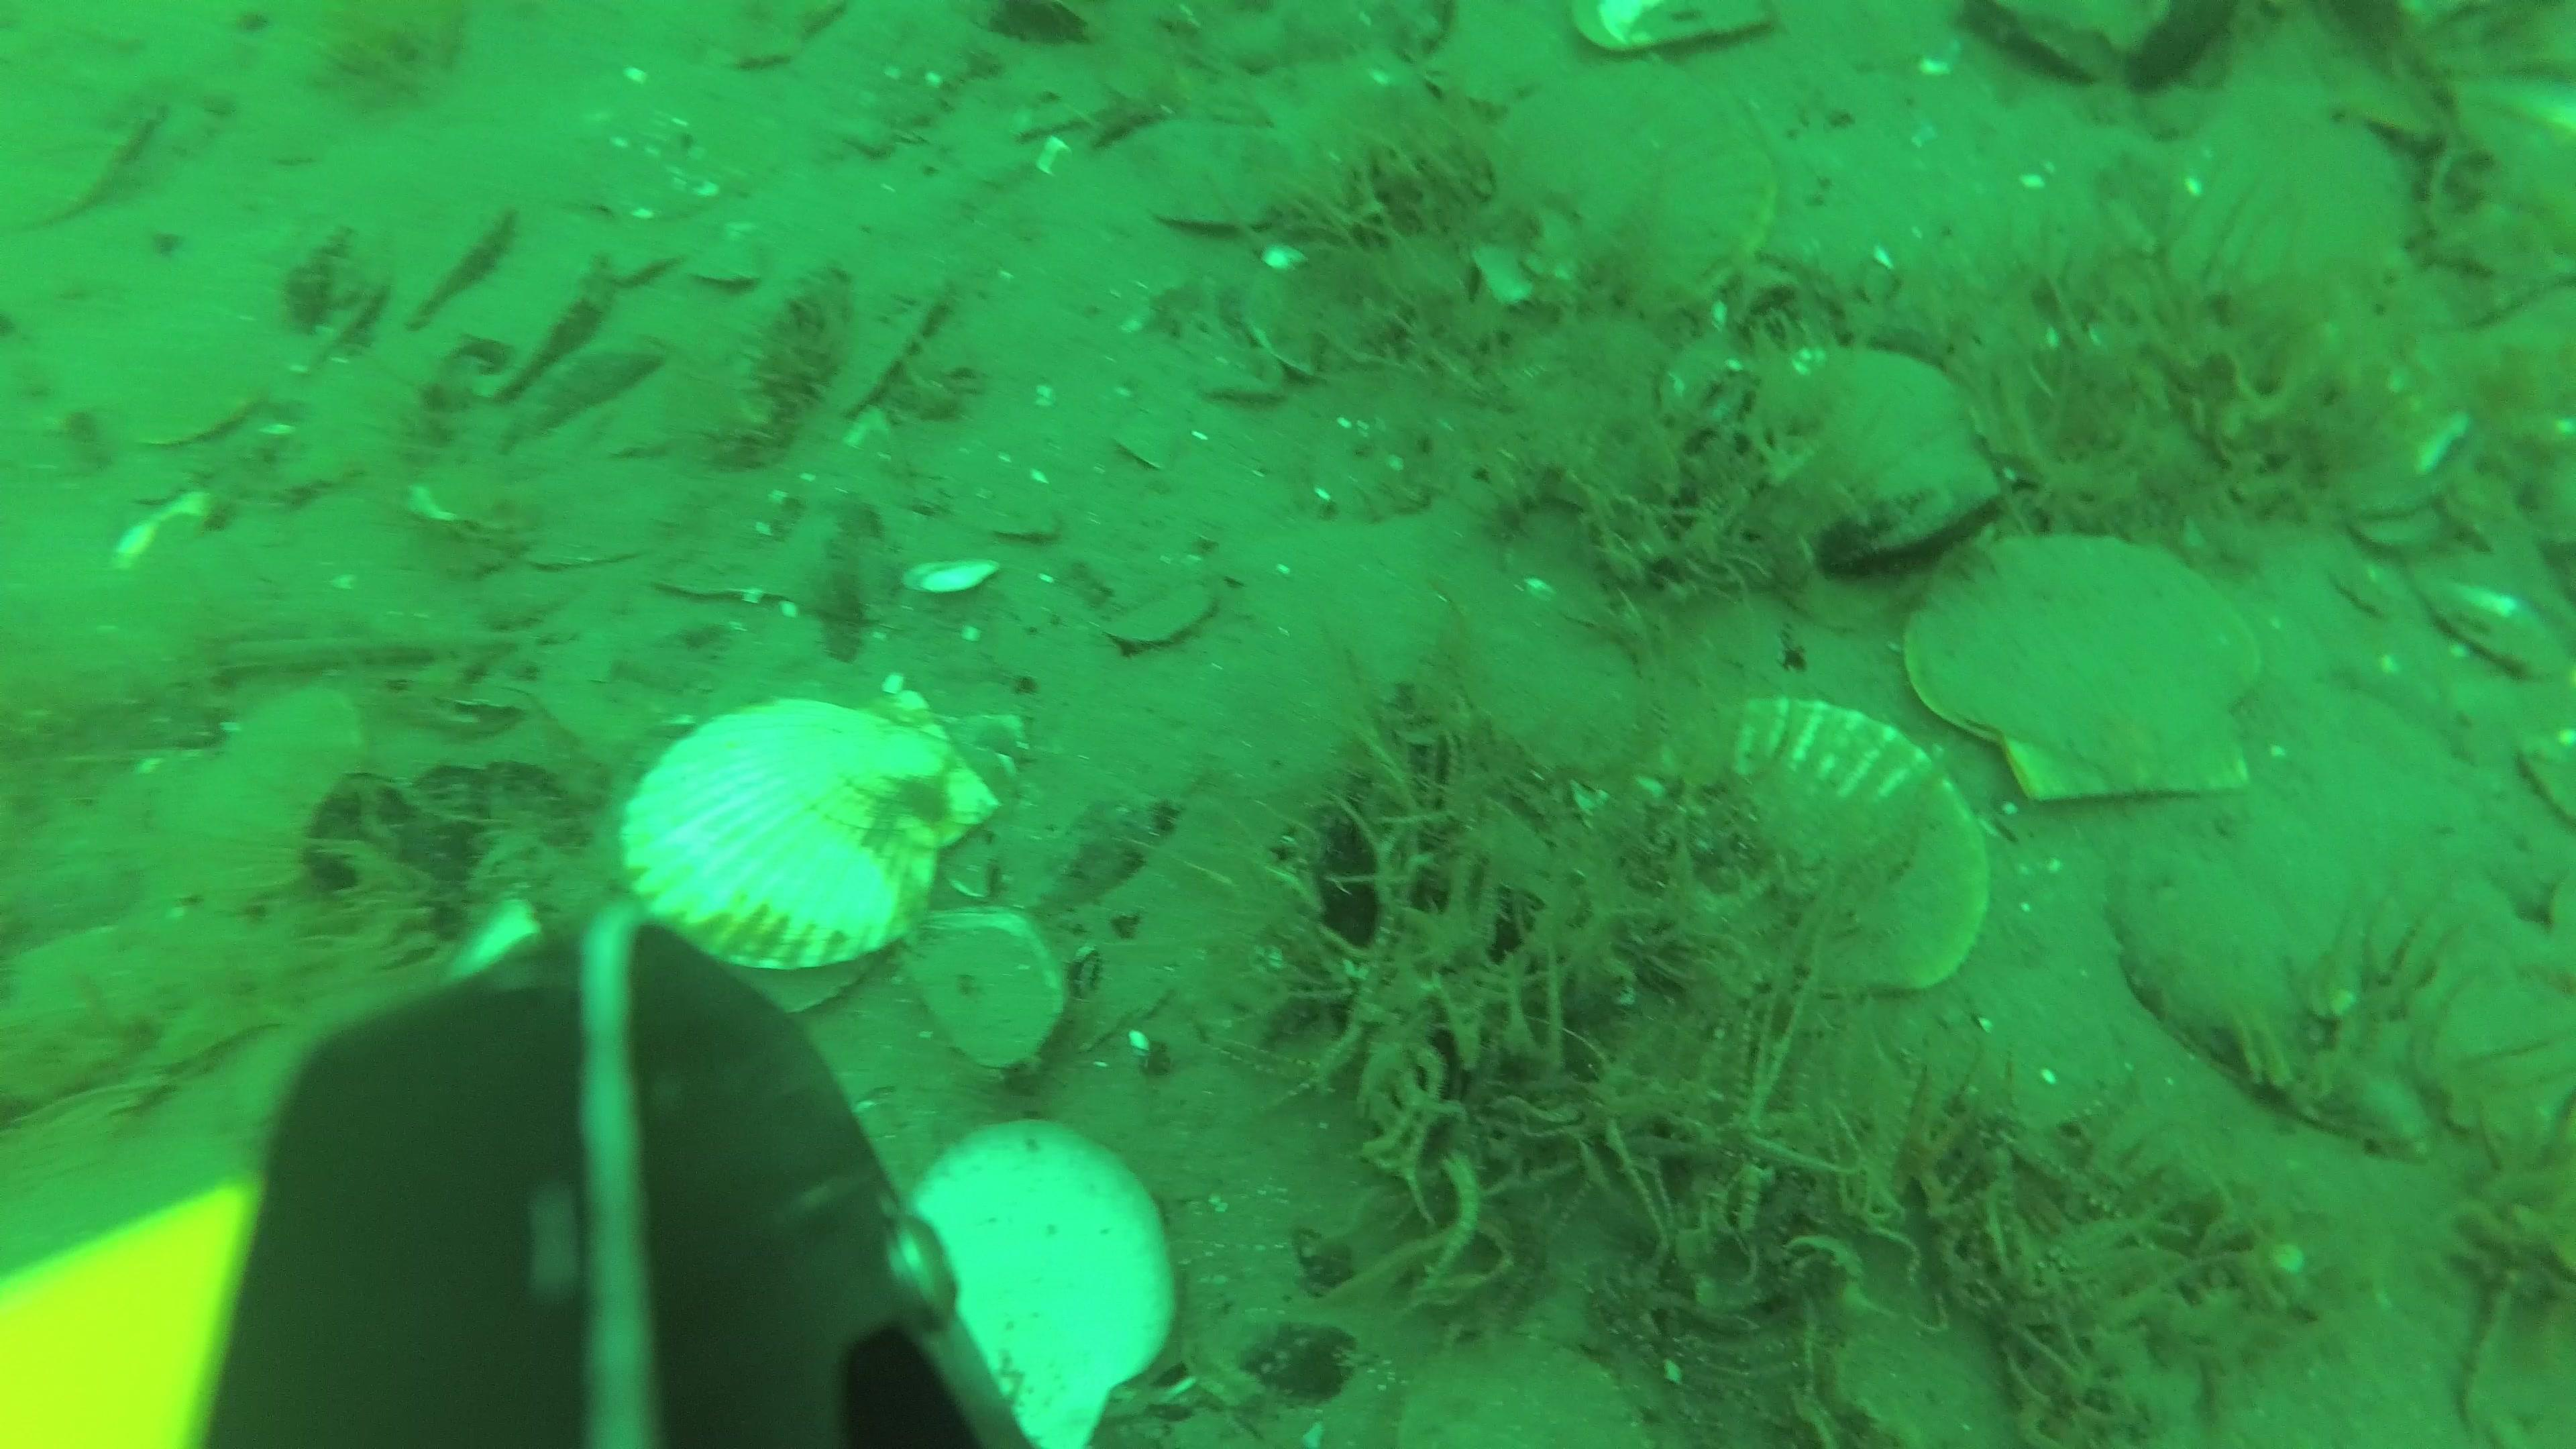scallop: (617, 671, 1014, 998), (1628, 706, 1983, 1001), (1907, 545, 2282, 801), (892, 1127, 1184, 1445), (1483, 67, 1776, 315), (1716, 345, 1982, 552), (2169, 106, 2404, 310), (1835, 1286, 2024, 1449), (886, 909, 1067, 1072), (1120, 113, 1299, 234)
